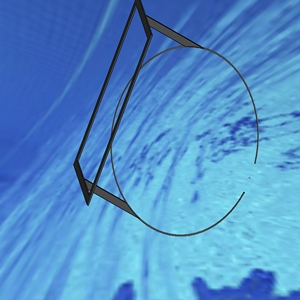circle: (74, 0, 259, 237)
